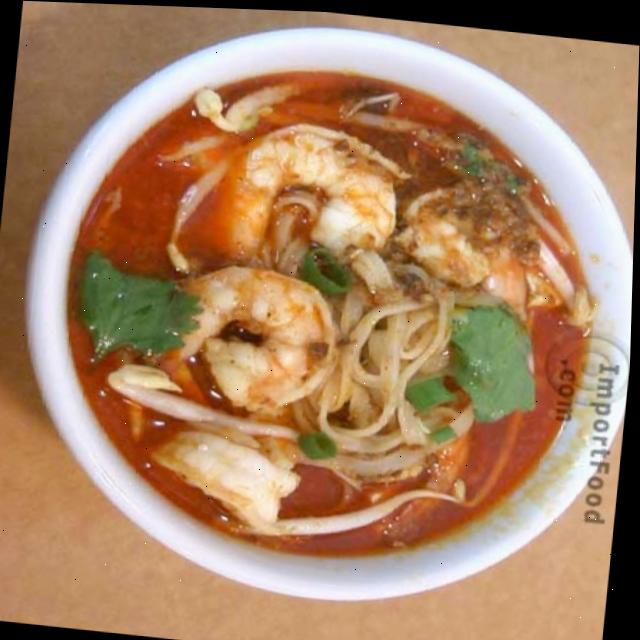面条主食: (0, 8, 640, 607)
